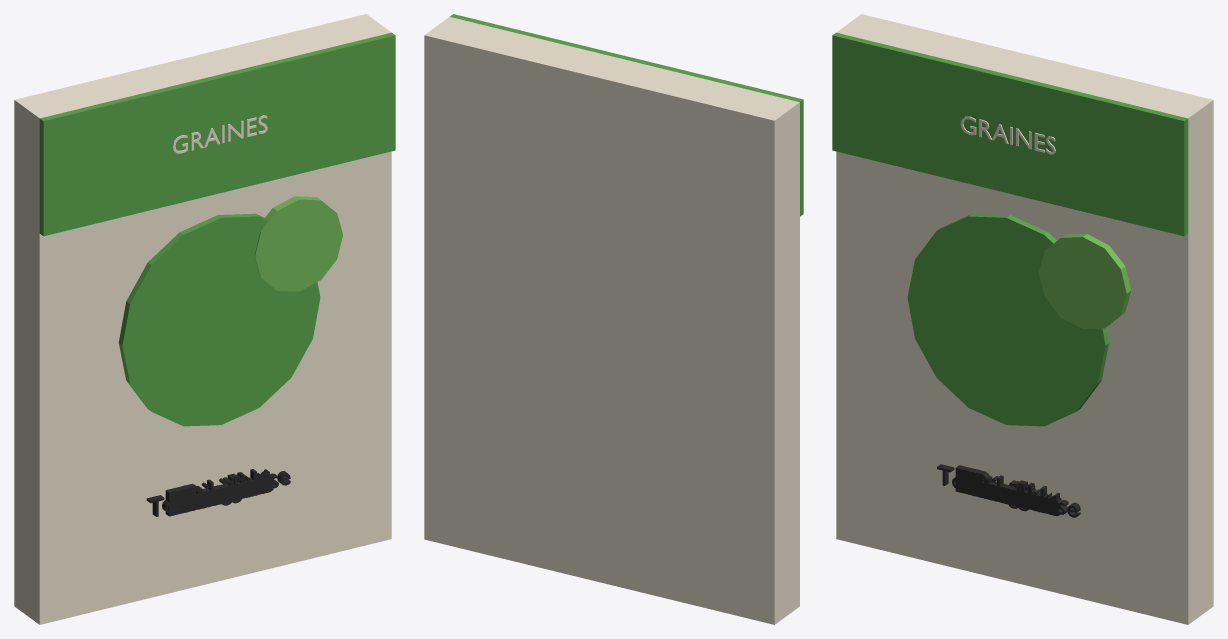
Rendered from seeds.glb.
The picture shows the model from 3 angles, left to right: view 1: azimuth 30°, elevation 25°; view 2: azimuth 150°, elevation 25°; view 3: azimuth 330°, elevation 25°; orthographic projection.
Visible parts, largest first — view 1: seeds_basilic, seeds_tomate, seeds_lavande, seeds_ciboulette; view 2: seeds_basilic; view 3: seeds_basilic, seeds_tomate, seeds_ciboulette, seeds_lavande.
Part boxes in pixels (left/top/right/bottom): seeds_basilic: left=14, top=14, right=395, bottom=624; seeds_tomate: left=146, top=471, right=290, bottom=516; seeds_lavande: left=165, top=469, right=273, bottom=516; seeds_ciboulette: left=169, top=478, right=272, bottom=511; seeds_basilic: left=424, top=14, right=803, bottom=624; seeds_basilic: left=832, top=14, right=1213, bottom=624; seeds_tomate: left=937, top=464, right=1080, bottom=517; seeds_ciboulette: left=956, top=473, right=1059, bottom=513; seeds_lavande: left=955, top=465, right=1060, bottom=515.
Bounding box in the file's own units: 0.16 × 0.22 × 0.025.
